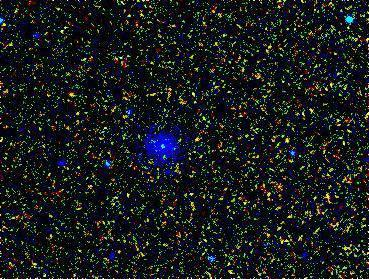star: (147, 140, 177, 170)
